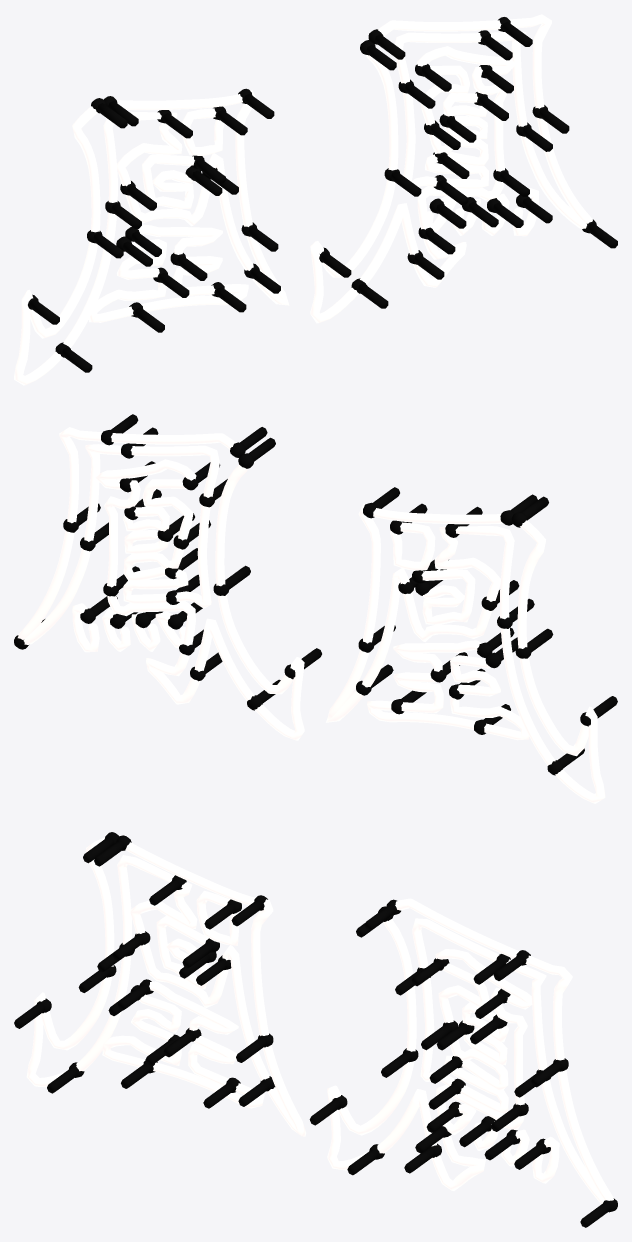
The model's file is neon_houou.fbx.
The picture shows the model from 3 angles, top to bottom: view 1: azimuth 30°, elevation 25°; view 2: azimuth 150°, elevation 25°; view 3: azimuth 330°, elevation 25°; orthographic projection.
Parts seen in each view (by area): view 1: NeonEnglish; view 2: NeonEnglish; view 3: NeonEnglish.
Part boxes in pixels (bbox=[...]): NeonEnglish: bbox=[14, 14, 617, 385]; NeonEnglish: bbox=[14, 414, 617, 803]; NeonEnglish: bbox=[14, 832, 617, 1227].
Bounding box in the file's own units: 252 × 118 × 21.29.
